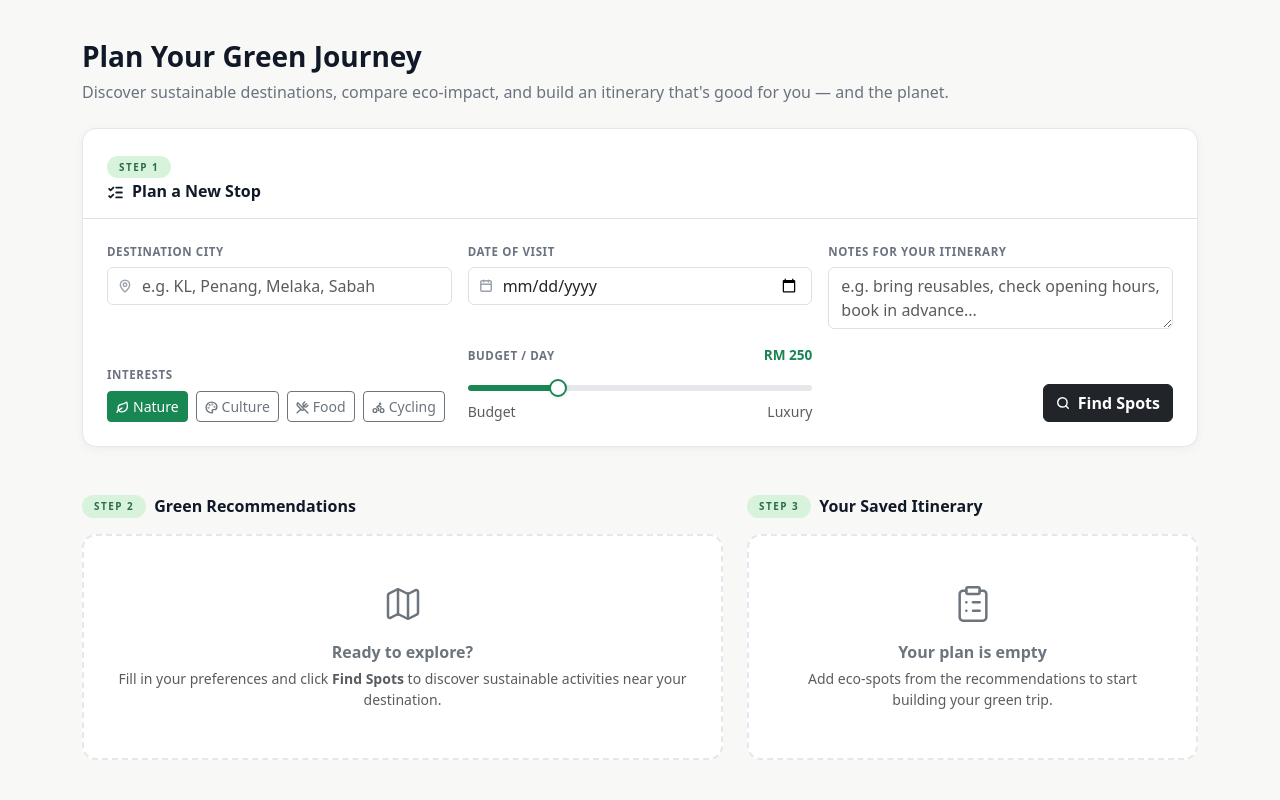
Test case: ItineraryPage › shows error when adding to plan without selecting a date
The width and height of the screenshot is (1280, 800).
Type "kl" into the field with placeholder "e.g. KL, Penang, Melaka, Sabah" at (279, 286), box left=107, top=267, right=452, bottom=305
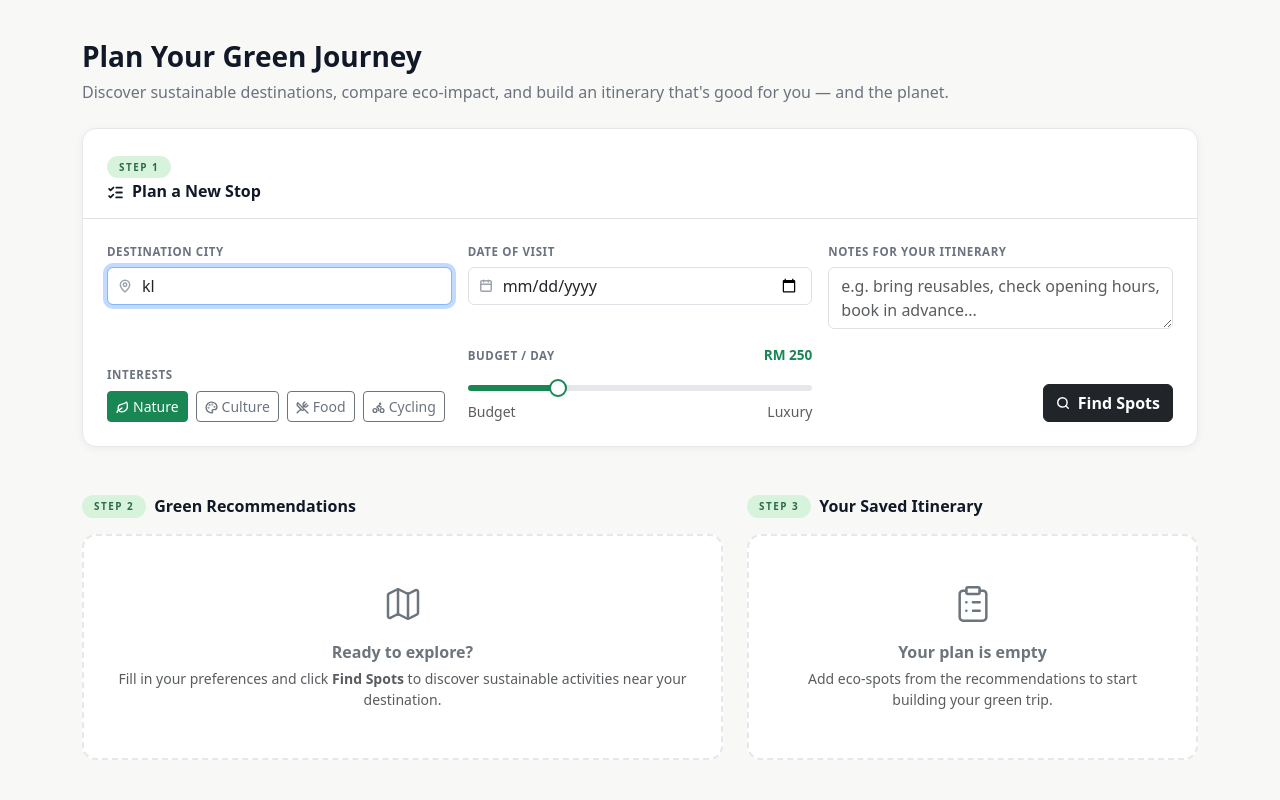
Click the button "Find Spots" at (1108, 403), box left=1043, top=384, right=1173, bottom=422
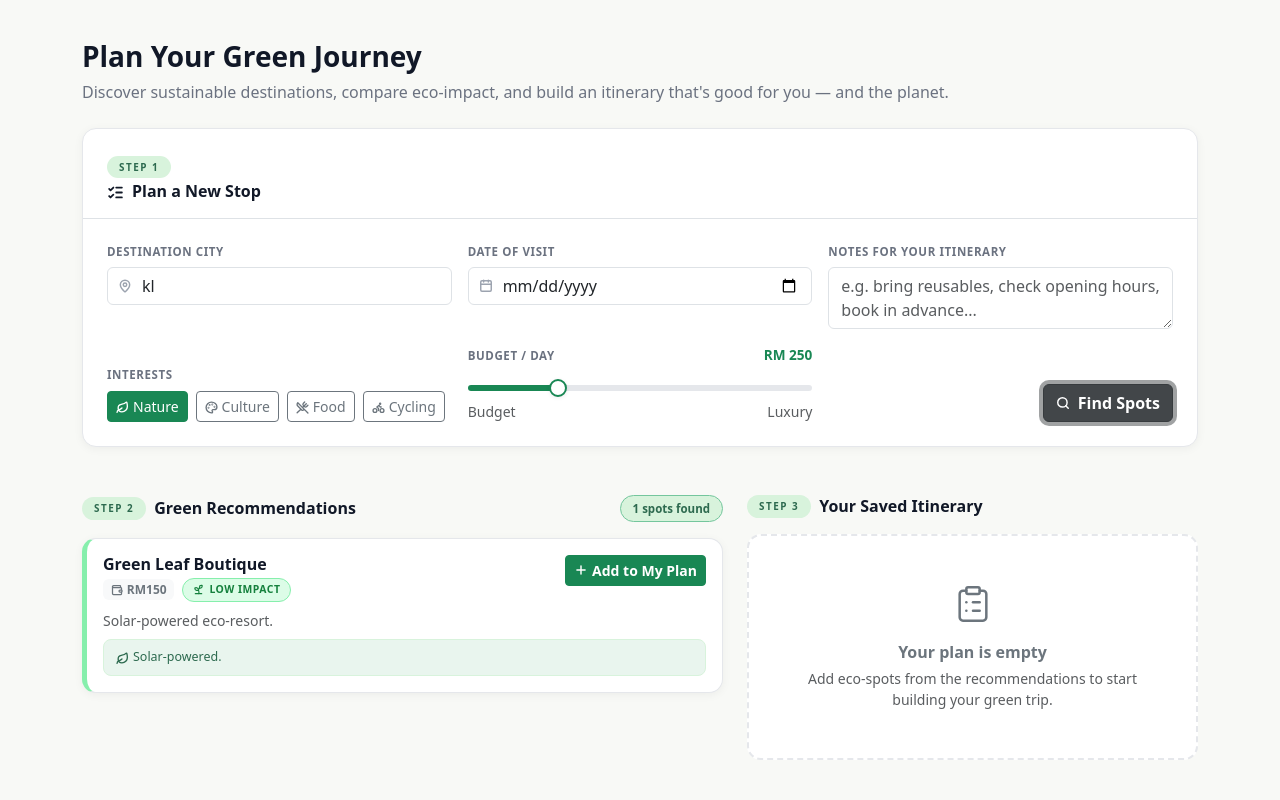
Check: the heading "Green Leaf Boutique" is shown, box left=103, top=555, right=292, bottom=574
Click the button "Add to My Plan" at (636, 570), box left=565, top=555, right=706, bottom=586
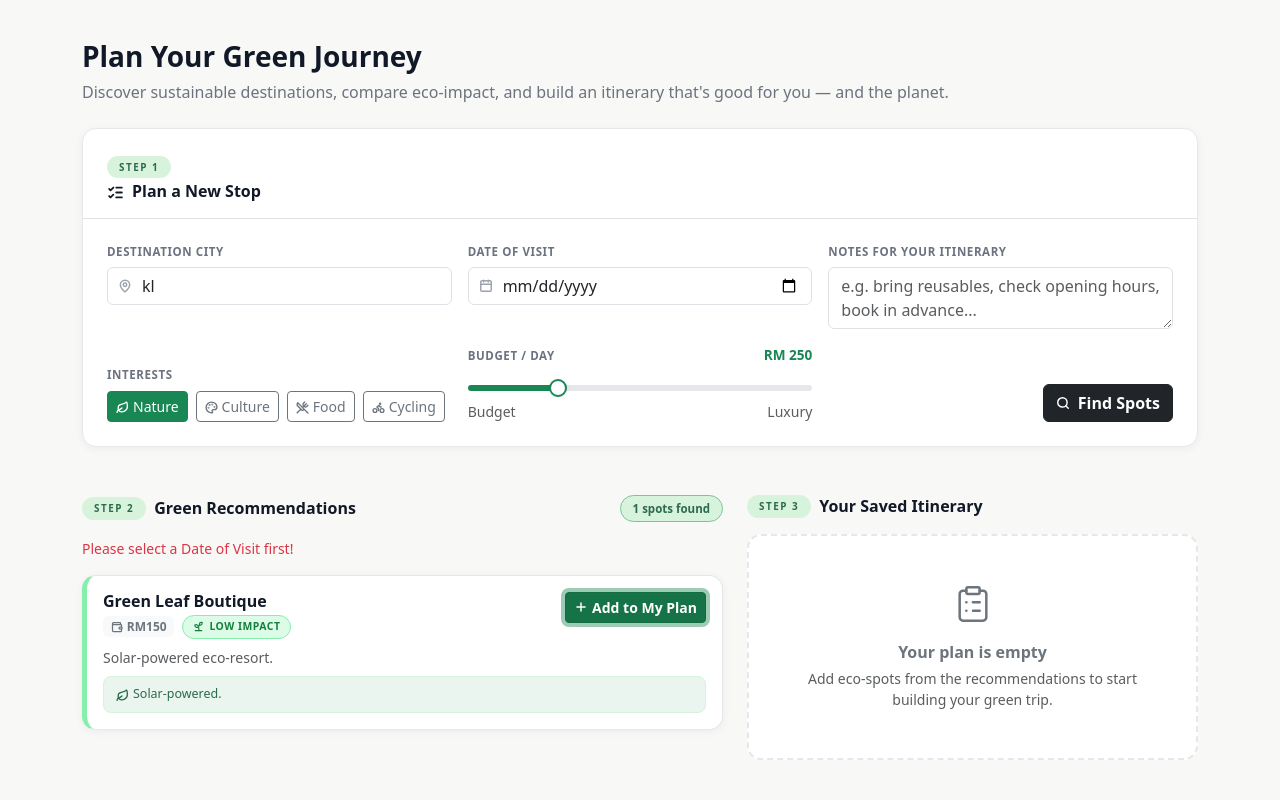
Check: the text "Please select a Date of Visit first!" is shown, box left=82, top=539, right=294, bottom=558
